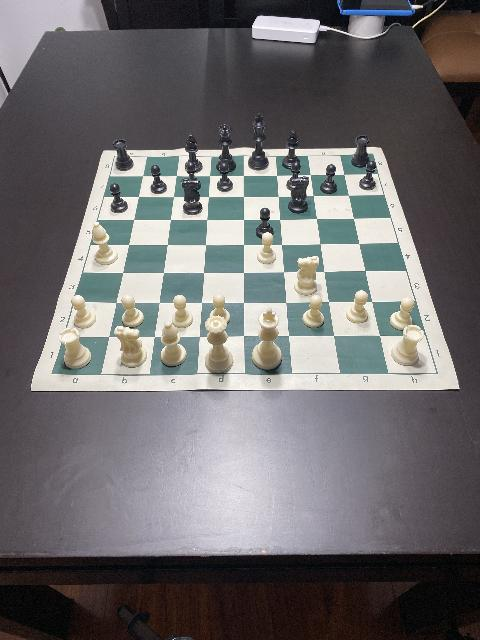black-bishop: (184, 133, 202, 173), (282, 130, 298, 170)
black-king: (247, 111, 267, 169)
black-knight: (288, 176, 310, 212), (182, 178, 202, 216)
black-pawn: (110, 183, 128, 213), (148, 166, 166, 194), (284, 162, 302, 190), (358, 162, 376, 190), (184, 162, 200, 192), (216, 162, 232, 192), (257, 208, 273, 236), (320, 165, 336, 193)
black-queen: (215, 124, 235, 172)
black-rook: (350, 134, 370, 168), (112, 140, 132, 170)
board: (29, 148, 460, 392)
white-bishop: (158, 321, 186, 367), (92, 222, 118, 264)
white-king: (250, 308, 282, 370)
white-knight: (114, 326, 146, 368), (295, 257, 319, 295)
white-pawn: (70, 296, 96, 328), (119, 295, 143, 327), (390, 296, 412, 330), (301, 295, 323, 327), (172, 294, 192, 328), (346, 290, 366, 322), (258, 232, 276, 266), (209, 294, 229, 324)
white-queen: (204, 316, 232, 372)
white-rook: (390, 324, 424, 366), (59, 328, 91, 368)
